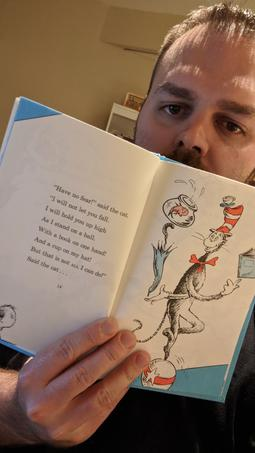text block: (22, 177, 133, 283)
